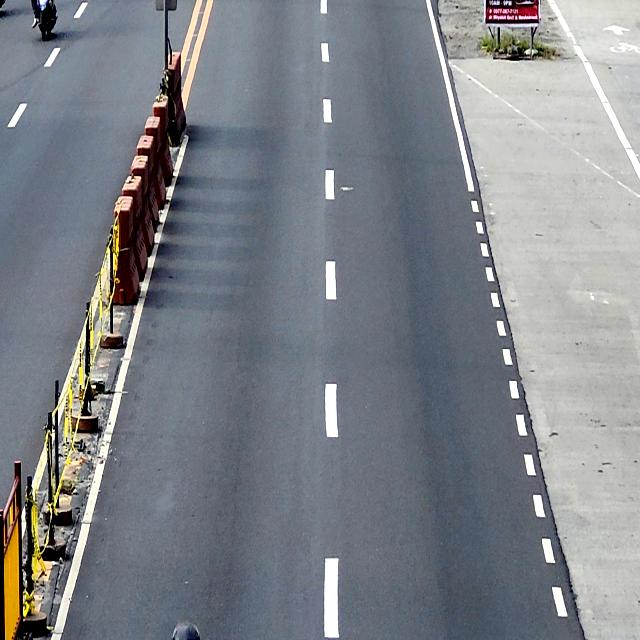Motorcycle: (31, 0, 58, 41)
